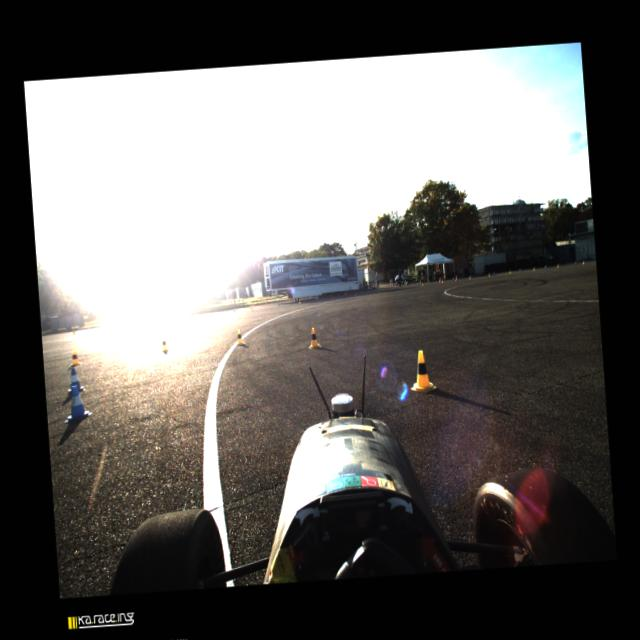blue_cone: (60, 383, 93, 423), (65, 365, 86, 393), (518, 267, 522, 272), (276, 301, 280, 306), (574, 260, 577, 264), (233, 307, 235, 312), (344, 291, 346, 296), (544, 264, 546, 268), (492, 271, 494, 275), (452, 276, 454, 280), (416, 282, 418, 286), (316, 296, 318, 300), (395, 284, 397, 288)
large_orange_cone: (454, 274, 458, 282), (438, 276, 442, 282)
yellow_cone: (408, 348, 437, 394), (306, 327, 322, 349), (234, 328, 246, 346), (70, 348, 82, 366), (160, 337, 169, 352), (468, 274, 472, 280), (556, 262, 559, 268), (298, 298, 301, 304), (532, 266, 536, 270), (508, 269, 511, 274), (421, 282, 424, 286), (487, 272, 490, 276), (582, 260, 585, 264), (441, 278, 443, 284), (250, 305, 252, 311), (354, 290, 356, 296), (332, 294, 334, 299)
